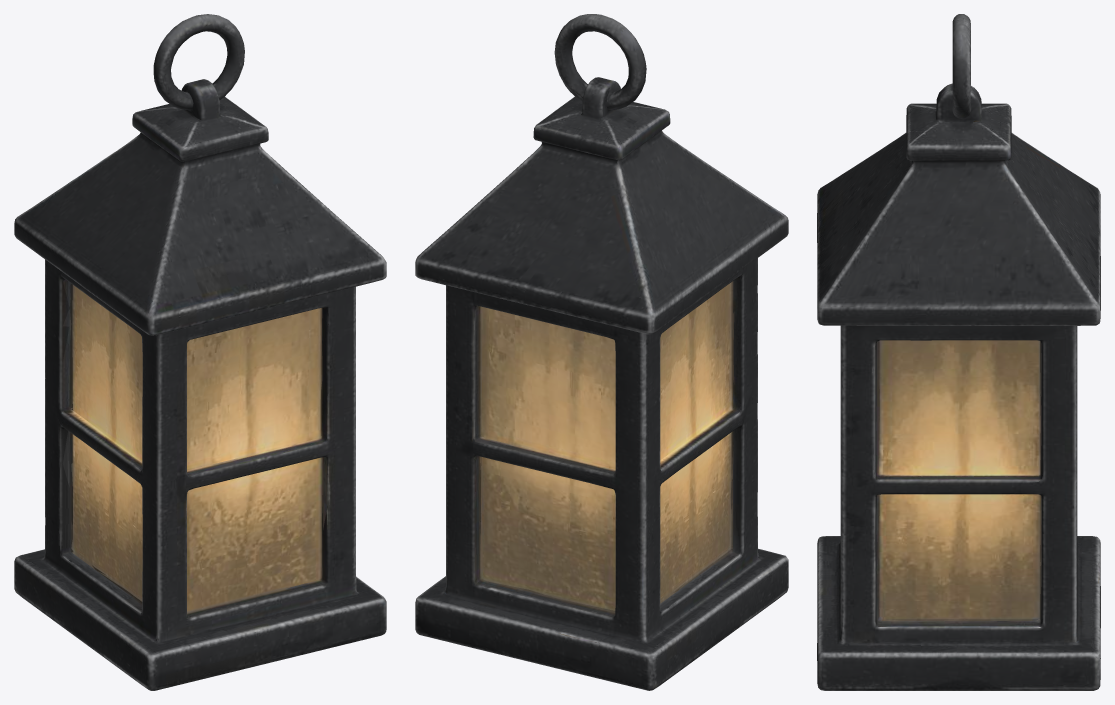
File: LanternBlack.glb
3 views of the same model, side by side, from view 1: azimuth 30°, elevation 25°; view 2: azimuth 150°, elevation 25°; view 3: azimuth 270°, elevation 25° (orthographic). The views are drawn at different scales.
Parts seen in each view (by area): view 1: LanternBlack; view 2: LanternBlack; view 3: LanternBlack.
Part boxes in pixels (x1,y1,x2,y2): LanternBlack: (14, 14, 386, 690); LanternBlack: (415, 14, 788, 690); LanternBlack: (817, 14, 1100, 690).
Size of the model in its own units: 0.2511 by 0.5998 by 0.2511.
2 materials, 2 textured.
